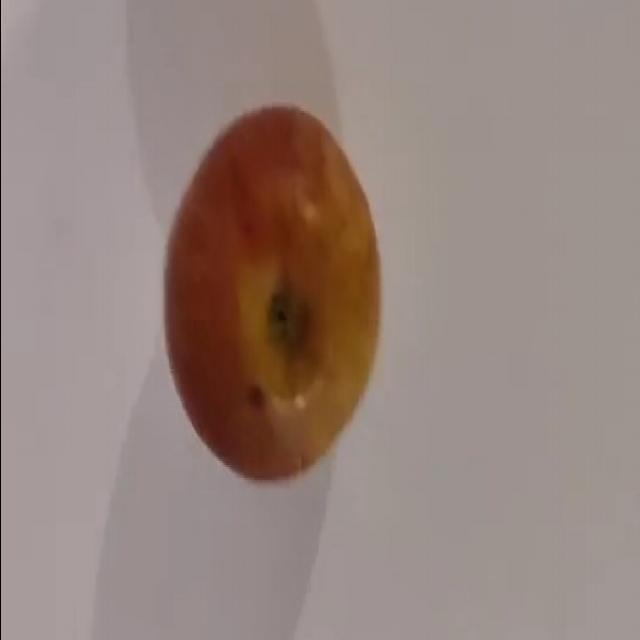Apple: (162, 102, 382, 482)
